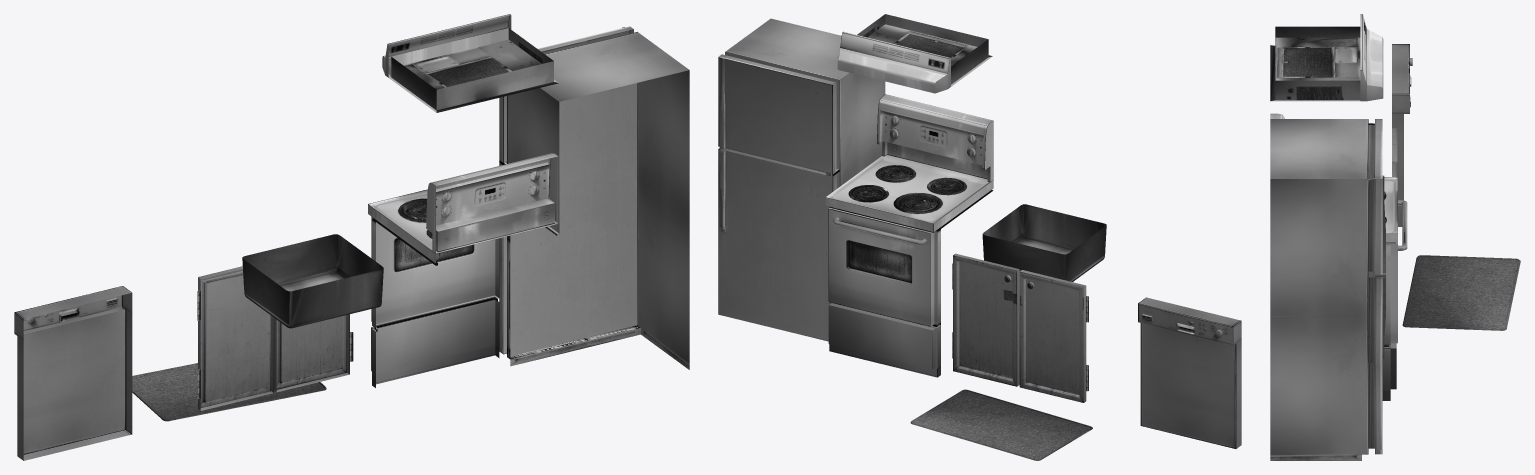
Rendered from apartment_kitchen.fbx.
3 views of the same model, side by side, from view 1: azimuth 30°, elevation 25°; view 2: azimuth 150°, elevation 25°; view 3: azimuth 270°, elevation 25° (orthographic). The views are drawn at different scales.
Visible parts, largest first — view 1: fridge, oven, dishwasher, cabinets, sink, kitchen_mat; view 2: oven, fridge, cabinets, dishwasher, sink, kitchen_mat; view 3: fridge, oven, kitchen_mat, dishwasher, cabinets.
Boxes of the visible parts, x1=… form: fridge: x1=499, y1=26, x2=689, y2=369; oven: x1=368, y1=14, x2=559, y2=387; dishwasher: x1=14, y1=286, x2=132, y2=460; cabinets: x1=197, y1=266, x2=353, y2=410; sink: x1=242, y1=234, x2=383, y2=328; kitchen_mat: x1=132, y1=363, x2=326, y2=421; oven: x1=825, y1=14, x2=993, y2=377; fridge: x1=718, y1=18, x2=885, y2=341; cabinets: x1=952, y1=253, x2=1088, y2=402; dishwasher: x1=1138, y1=297, x2=1241, y2=448; sink: x1=982, y1=204, x2=1106, y2=281; kitchen_mat: x1=910, y1=389, x2=1092, y2=460; fridge: x1=1270, y1=119, x2=1385, y2=460; oven: x1=1270, y1=14, x2=1407, y2=400; kitchen_mat: x1=1402, y1=255, x2=1520, y2=330; dishwasher: x1=1392, y1=44, x2=1412, y2=226; cabinets: x1=1392, y1=128, x2=1397, y2=176.
Size of the model in its own units: 424 by 238 by 163.
